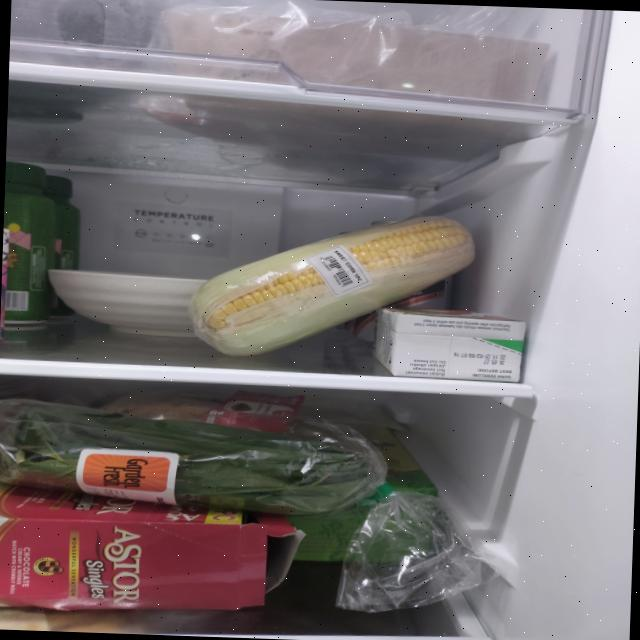corn: (185, 206, 479, 366)
leafy_greens: (0, 398, 372, 518)
